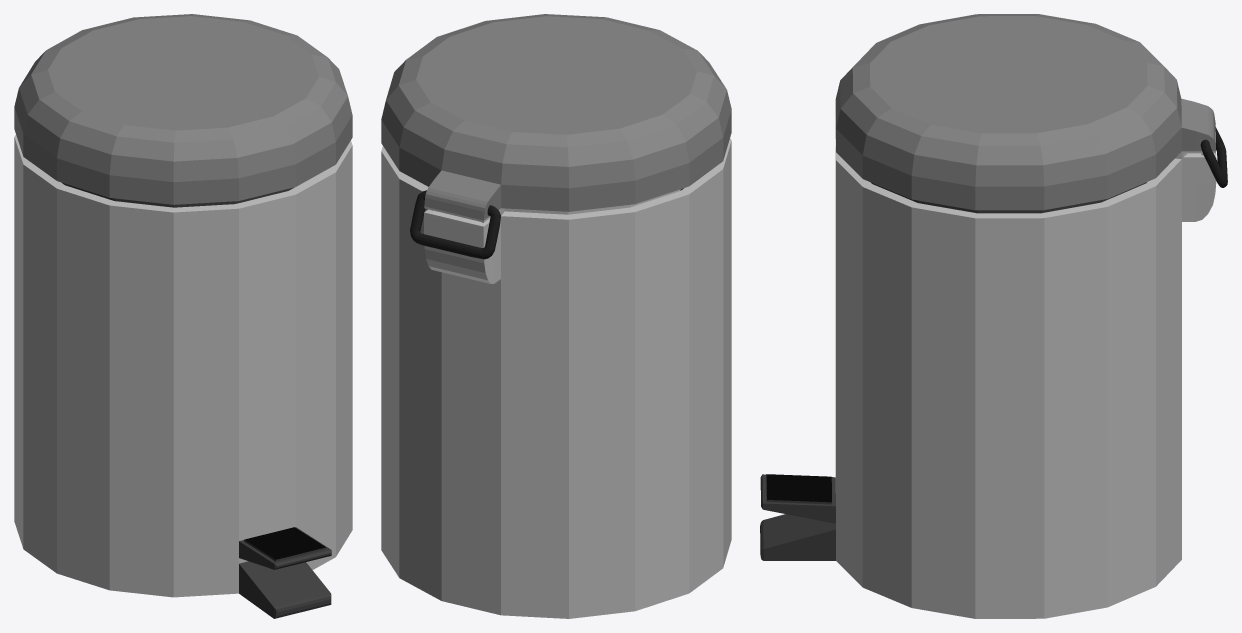
The model's file is Papelera.fbx.
3 views of the same model, side by side, from view 1: azimuth 30°, elevation 25°; view 2: azimuth 150°, elevation 25°; view 3: azimuth 270°, elevation 25° (orthographic). The views are drawn at different scales.
Visible parts, largest first — view 1: Binmain, Bin_Pedal; view 2: Binmain, Binloop; view 3: Binmain, Bin_Pedal, Binloop.
Part boxes in pixels (box(x1,y1,x2,y2)): Binmain: box(14, 14, 352, 618); Bin_Pedal: box(244, 527, 325, 559); Binmain: box(381, 14, 731, 618); Binloop: box(410, 190, 500, 259); Binmain: box(760, 14, 1216, 618); Bin_Pedal: box(766, 474, 831, 502); Binloop: box(1200, 127, 1227, 187).
Size of the model in its own units: 34.29 by 46.32 by 51.48.
